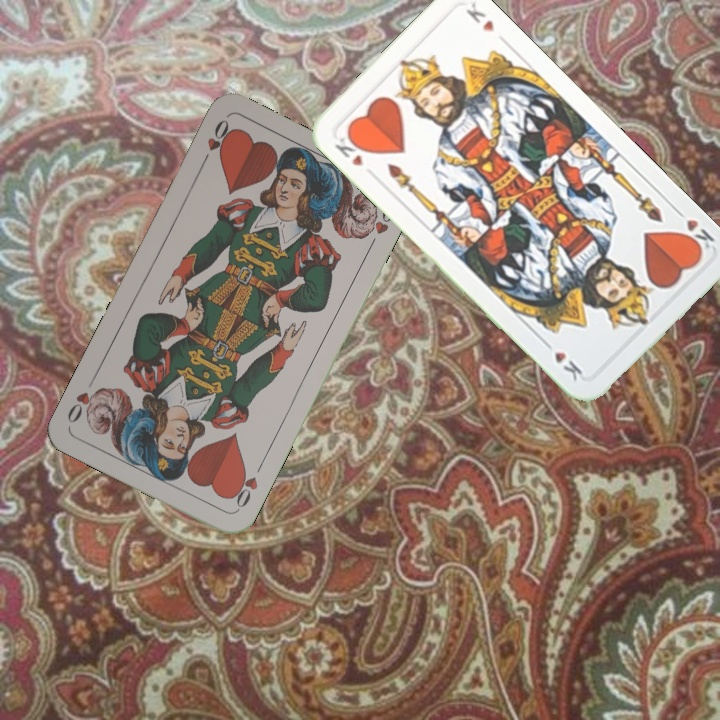HK: (670, 203, 718, 257), (330, 127, 370, 169)
HO: (227, 458, 266, 513), (196, 115, 235, 169)
